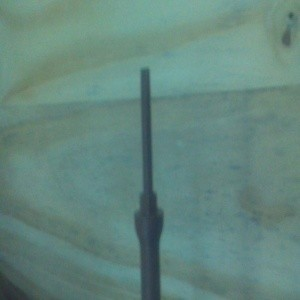obeng: (133, 65, 164, 300)
